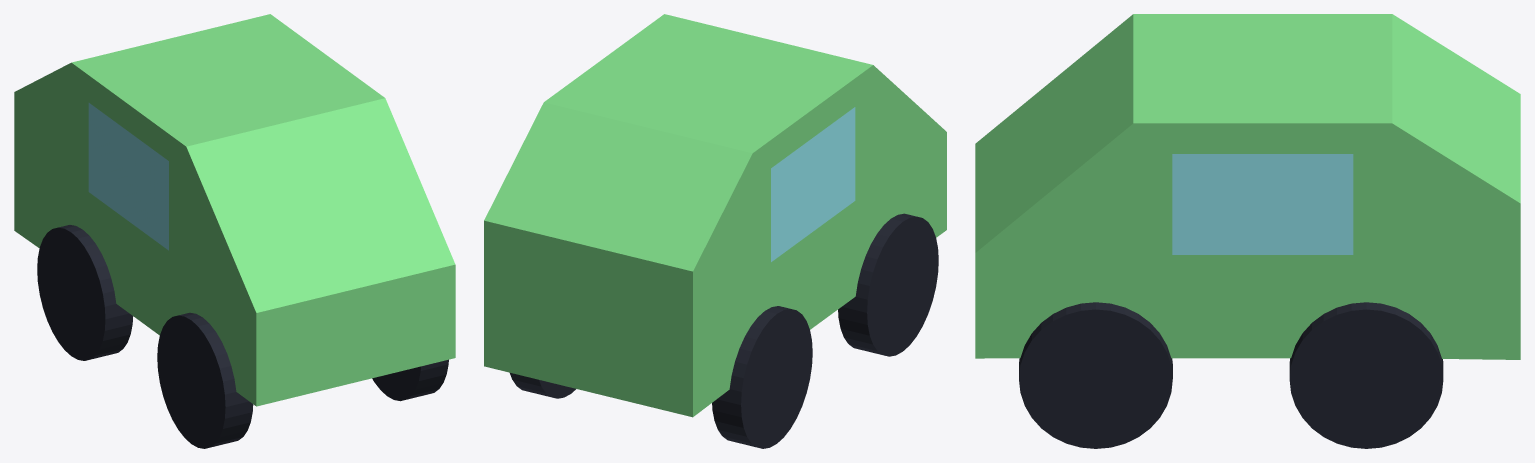
The model's file is Car_03.fbx.
3 views of the same model, side by side, from view 1: azimuth 30°, elevation 25°; view 2: azimuth 150°, elevation 25°; view 3: azimuth 270°, elevation 25° (orthographic). The views are drawn at different scales.
Visible parts, largest first — view 1: Cube, Cylinder.001, Cylinder; view 2: Cube, Cylinder.001, Cylinder; view 3: Cube, Cylinder.
Part boxes in pixels (bbox=[...]): Cube: bbox=[14, 14, 455, 406]; Cylinder.001: bbox=[37, 225, 253, 448]; Cylinder: bbox=[372, 359, 448, 401]; Cube: bbox=[484, 14, 946, 417]; Cylinder.001: bbox=[712, 213, 938, 448]; Cylinder: bbox=[510, 373, 575, 398]; Cube: bbox=[975, 14, 1520, 359]; Cylinder: bbox=[1019, 302, 1443, 448].
Bounding box in the file's own units: 225 × 271 × 421.
